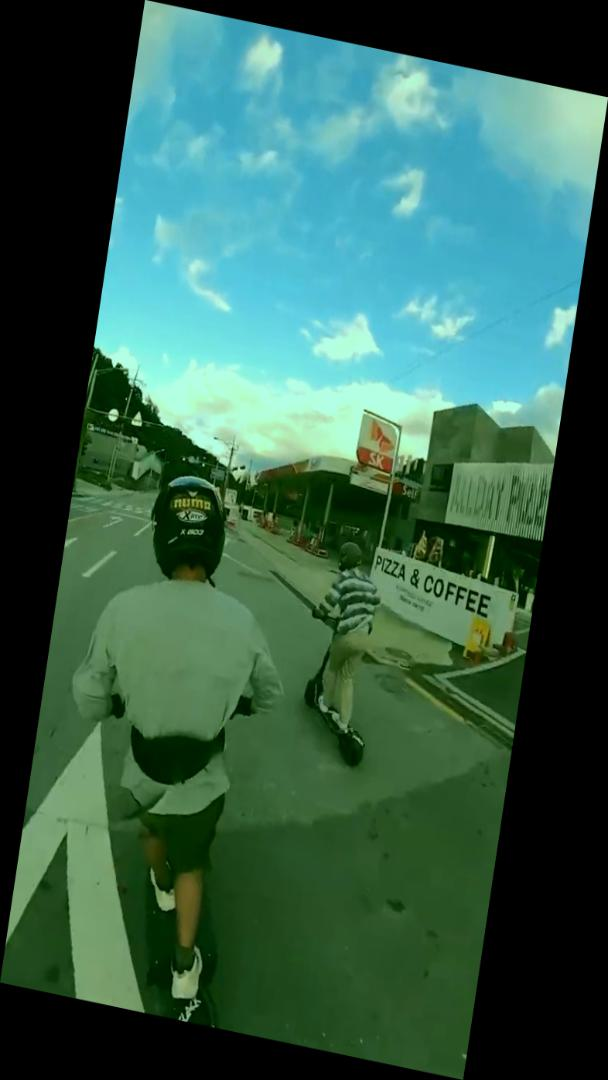helmet: (23, 454, 316, 1033), (291, 533, 399, 774)
